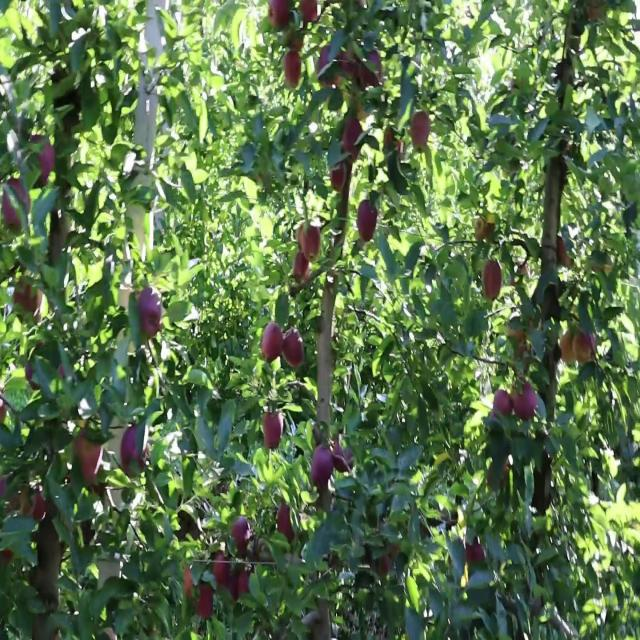apple: (4, 177, 32, 233), (120, 426, 150, 476), (76, 433, 103, 482), (140, 291, 164, 340), (12, 284, 43, 316), (33, 142, 56, 185), (516, 383, 538, 423), (312, 447, 332, 489), (344, 120, 364, 162), (336, 49, 359, 85), (360, 199, 379, 242), (264, 412, 284, 452), (284, 49, 303, 91), (360, 56, 383, 89), (332, 440, 353, 476), (484, 263, 504, 300), (264, 327, 284, 363), (268, 0, 292, 30), (284, 334, 304, 370), (412, 113, 432, 149), (276, 504, 296, 540), (232, 519, 252, 555), (300, 227, 321, 261), (316, 49, 333, 91), (196, 583, 215, 620), (212, 554, 232, 588), (488, 462, 509, 494), (576, 334, 596, 366), (232, 568, 250, 603), (492, 391, 513, 418), (32, 490, 49, 523), (384, 127, 403, 156), (300, 1, 320, 27), (468, 540, 486, 567), (560, 334, 576, 364), (332, 163, 347, 194), (376, 554, 393, 580), (476, 220, 496, 242), (236, 568, 250, 597), (296, 255, 310, 281), (560, 241, 572, 270), (184, 568, 195, 599), (28, 362, 38, 391), (4, 403, 8, 418)
